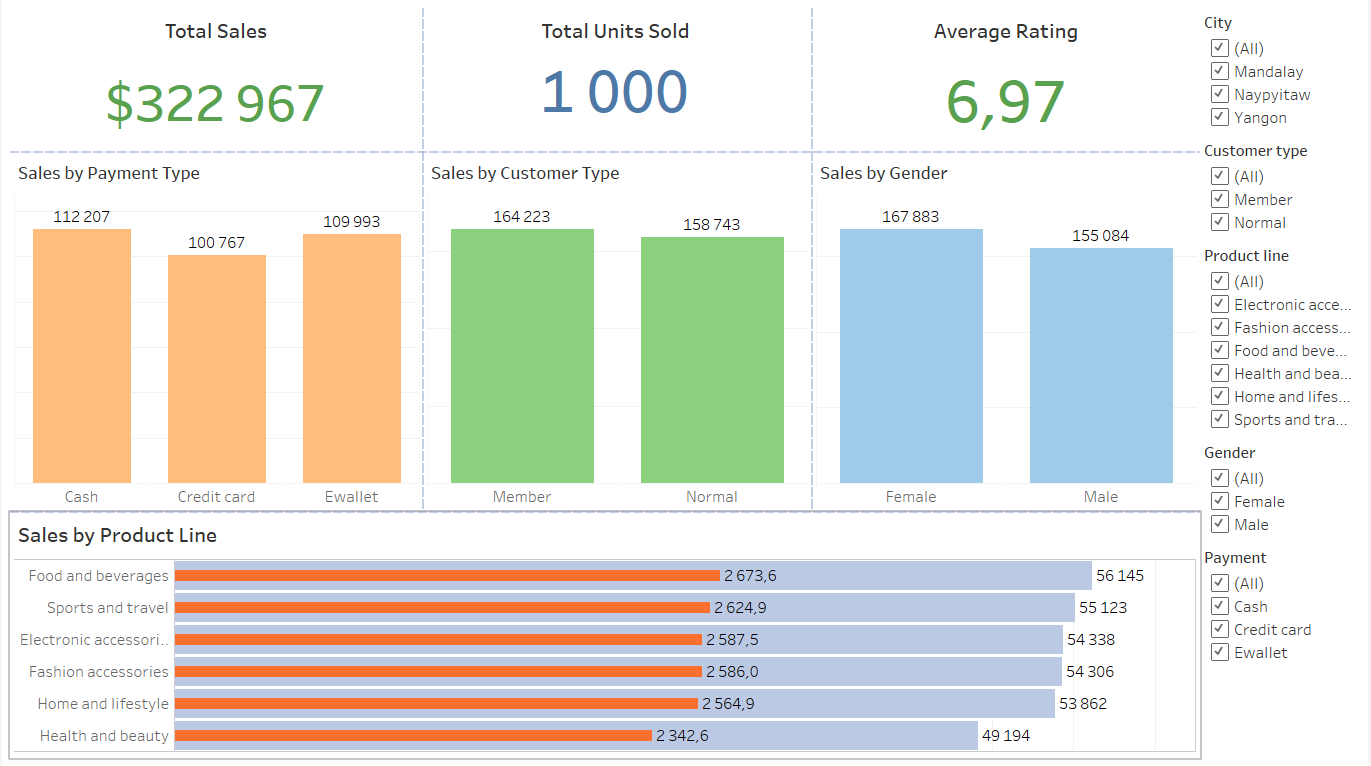

The dashboard page shown, as its layout file describes it:
{"tool":"tableau","page":{"name":"Sales Dashboard","canvas":[1366,768],"ordinal":0},"visuals":[{"type":"worksheet","title":"Total Sales","mark":"Automatic","box":[8,8,413,144]},{"type":"worksheet","title":"Total Units","mark":"Automatic","box":[421,8,389,144]},{"type":"worksheet","title":"Rating","mark":"Automatic","box":[810,8,388,144]},{"type":"filter","title":"Sales by Payment","param":"[federated.1a2eo4z0xlyzxd1667b5g0kslyod].[none:city:nk]","box":[1198,8,160,128]},{"type":"filter","title":"Total Sales","param":"[federated.1a2eo4z0xlyzxd1667b5g0kslyod].[none:Customer type:nk]","box":[1198,136,160,105]},{"type":"worksheet","title":"Sales by Payment","mark":"Bar","rows":["total"],"cols":["payment"],"box":[8,152,412.9,359.6]},{"type":"worksheet","title":"Sales by Customer","mark":"Automatic","rows":["total"],"cols":["Customer type"],"box":[420.9,152,389.2,359.6]},{"type":"worksheet","title":"Sales by Gender","mark":"Automatic","rows":["total"],"cols":["gender"],"box":[810.1,152,387.9,359.6]},{"type":"filter","title":"Total Sales","param":"[federated.1a2eo4z0xlyzxd1667b5g0kslyod].[none:Product line:nk]","box":[1198,241,160,197]},{"type":"filter","title":"Total Sales","param":"[federated.1a2eo4z0xlyzxd1667b5g0kslyod].[none:gender:nk]","box":[1198,438,160,105]},{"type":"worksheet","title":"Sales by Product Line","mark":"Bar","rows":["Product line"],"cols":["total","gross_income"],"box":[8,511.6,1190,248.4]},{"type":"filter","title":"Total Sales","param":"[federated.1a2eo4z0xlyzxd1667b5g0kslyod].[none:payment:nk]","box":[1198,543,160,128]}]}

Visuals, with their boxes in screenshot pixels (x1, y1, x2, y2), scaled from the page's 1366x768 canvas onto the 1371x766 screenshot:
"Total Sales" worksheet: region(8, 8, 423, 152)
"Total Units" worksheet: region(423, 8, 813, 152)
"Rating" worksheet: region(813, 8, 1202, 152)
"Sales by Payment" filter: region(1202, 8, 1363, 136)
"Total Sales" filter: region(1202, 136, 1363, 240)
"Sales by Payment" worksheet (Bar marks): region(8, 152, 422, 510)
"Sales by Customer" worksheet: region(422, 152, 813, 510)
"Sales by Gender" worksheet: region(813, 152, 1202, 510)
"Total Sales" filter: region(1202, 240, 1363, 437)
"Total Sales" filter: region(1202, 437, 1363, 542)
"Sales by Product Line" worksheet (Bar marks): region(8, 510, 1202, 758)
"Total Sales" filter: region(1202, 542, 1363, 669)
